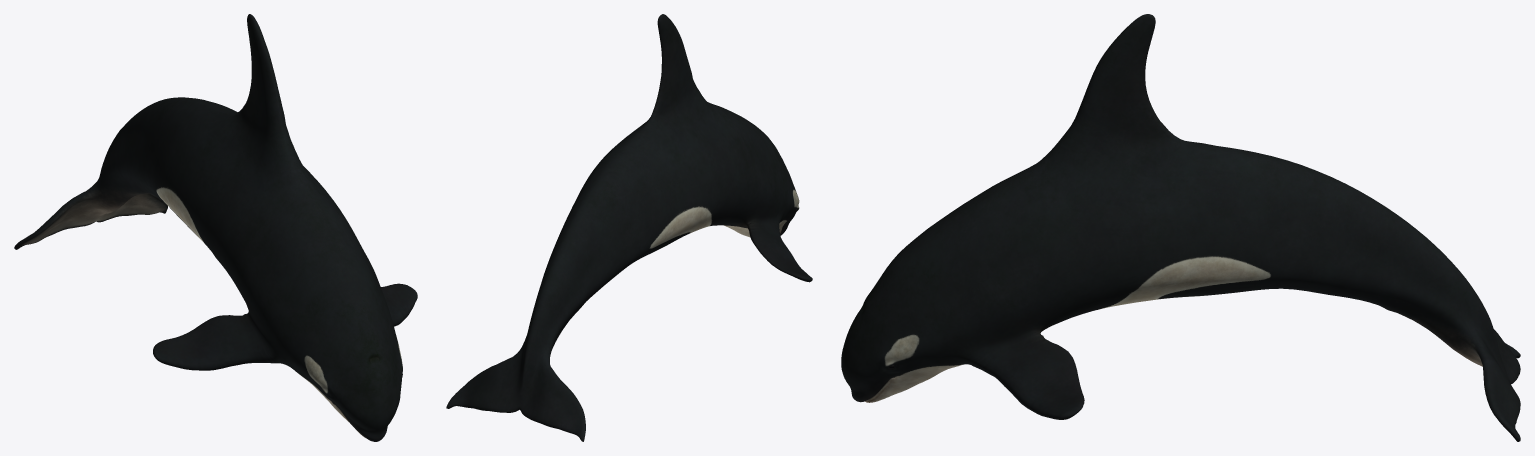
The model's file is killer_whale.gltf.
3 renders of one model, left to right at view 1: azimuth 30°, elevation 25°; view 2: azimuth 150°, elevation 25°; view 3: azimuth 270°, elevation 25°, orthographic. The views are drawn at different scales.
Visible parts, largest first — view 1: killer_whale.1; view 2: killer_whale.1; view 3: killer_whale.1.
Part boxes in pixels (x1=…): killer_whale.1: x1=14, y1=14, x2=417, y2=441; killer_whale.1: x1=446, y1=14, x2=812, y2=441; killer_whale.1: x1=841, y1=14, x2=1520, y2=441.
Bounding box in the file's own units: 0.0314 × 0.0385 × 0.0611.
Materials: 1 (1 with a texture image).
